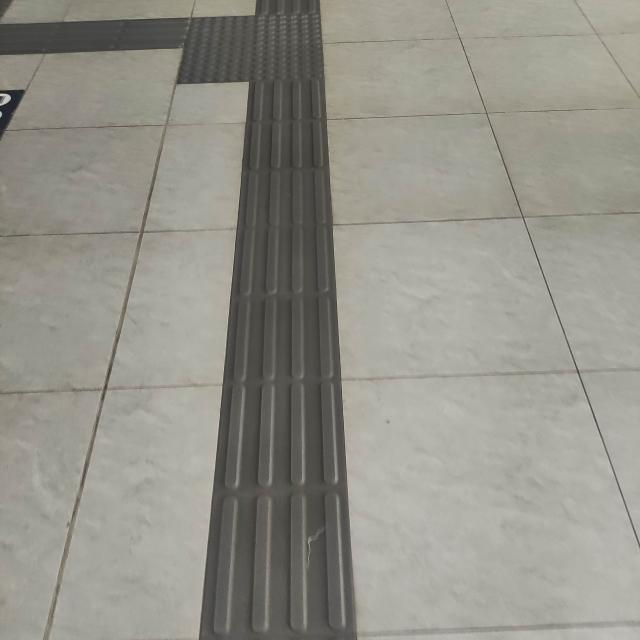lurus: (227, 65, 351, 640)
